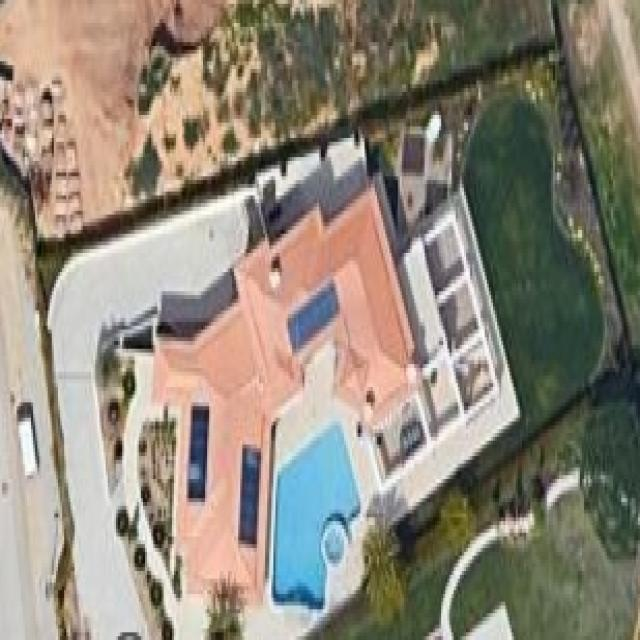pool: (219, 399, 397, 639)
